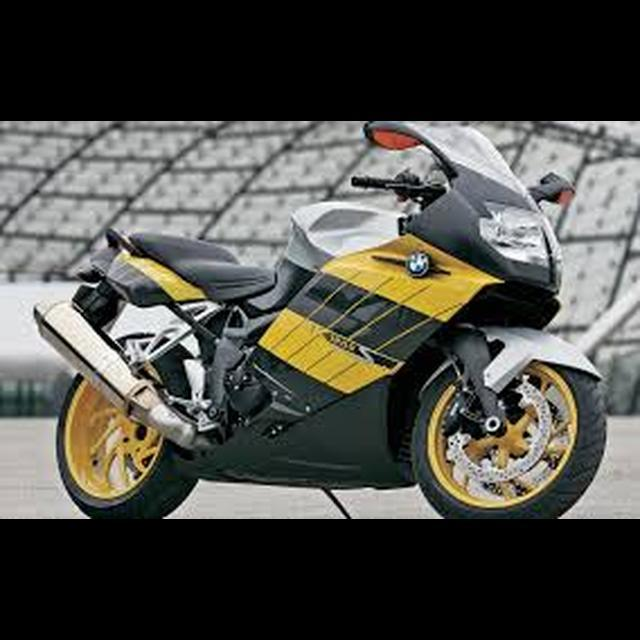motorcycle: (29, 119, 614, 517)
